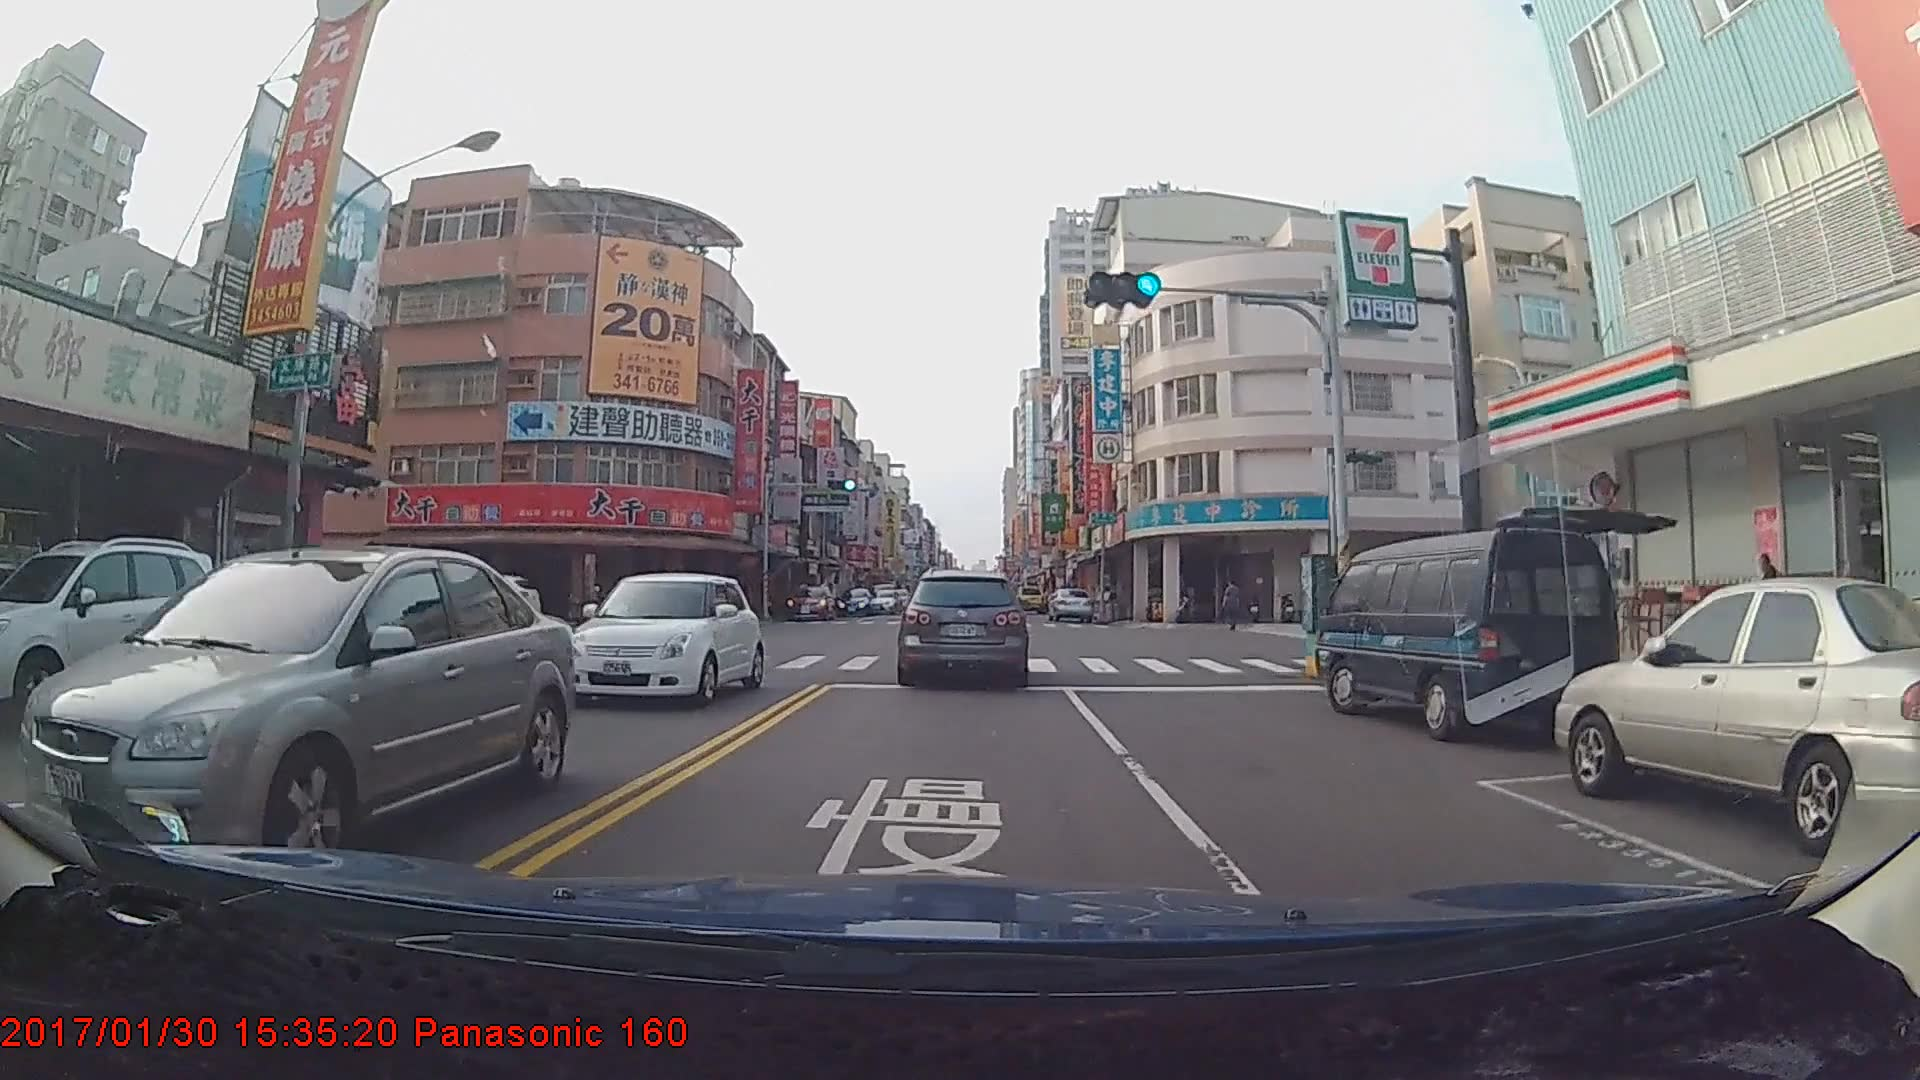pedestrian: (1224, 584, 1245, 637)
vehicle: (43, 544, 572, 872), (1555, 579, 1918, 860), (1310, 520, 1633, 747), (0, 530, 218, 726), (561, 570, 764, 712), (898, 568, 1029, 685), (1047, 586, 1095, 624), (785, 585, 833, 621), (836, 589, 874, 616), (867, 587, 902, 614), (1014, 585, 1046, 612)
